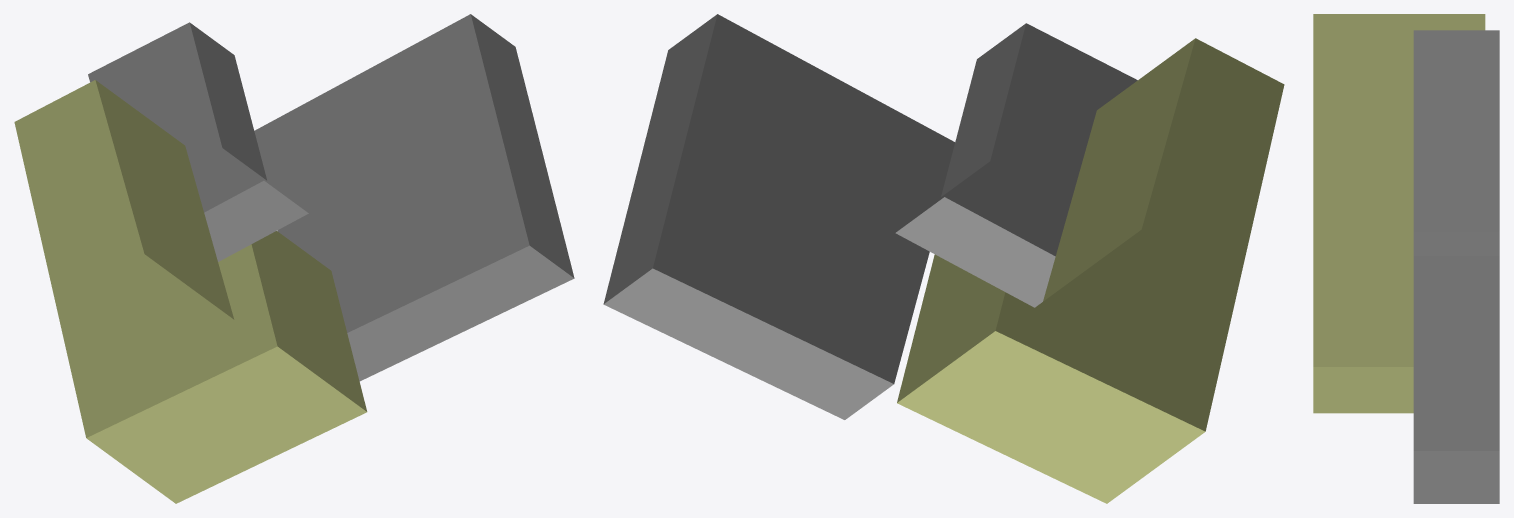
The picture shows the model from 3 angles, left to right: view 1: azimuth 30°, elevation 25°; view 2: azimuth 150°, elevation 25°; view 3: azimuth 270°, elevation 25°; orthographic projection. The views are drawn at different scales.
Parts seen in each view (by area): view 1: 0_1_0_2_1_3_3_1_1; view 2: 0_1_0_2_1_3_3_1_1; view 3: 0_1_0_2_1_3_3_1_1.
Part boxes in pixels (x1,y1,x2,y2): 0_1_0_2_1_3_3_1_1: [14, 14, 574, 503]; 0_1_0_2_1_3_3_1_1: [603, 14, 1284, 503]; 0_1_0_2_1_3_3_1_1: [1313, 14, 1499, 503].
Size of the model in its own units: 20.15 by 14.12 by 6.5.
